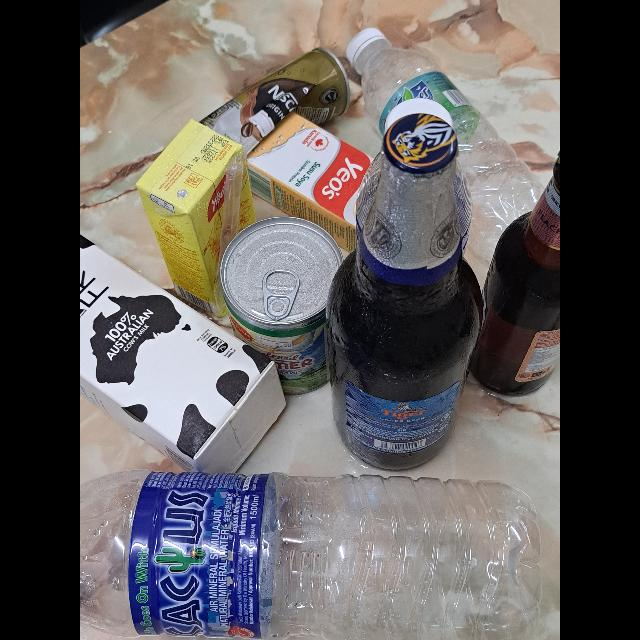aba de lata: (264, 262, 298, 324)
caixinha: (83, 229, 287, 475), (138, 118, 262, 322), (252, 116, 411, 250)
garrafa de vidro: (332, 119, 484, 484), (474, 127, 560, 399)
garrafa plástica: (80, 470, 544, 640), (362, 51, 536, 250)
lata: (220, 218, 340, 392), (192, 49, 351, 153)
tampa plástica: (345, 30, 385, 64)
